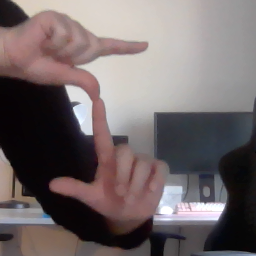Z: (20, 9, 168, 216)
